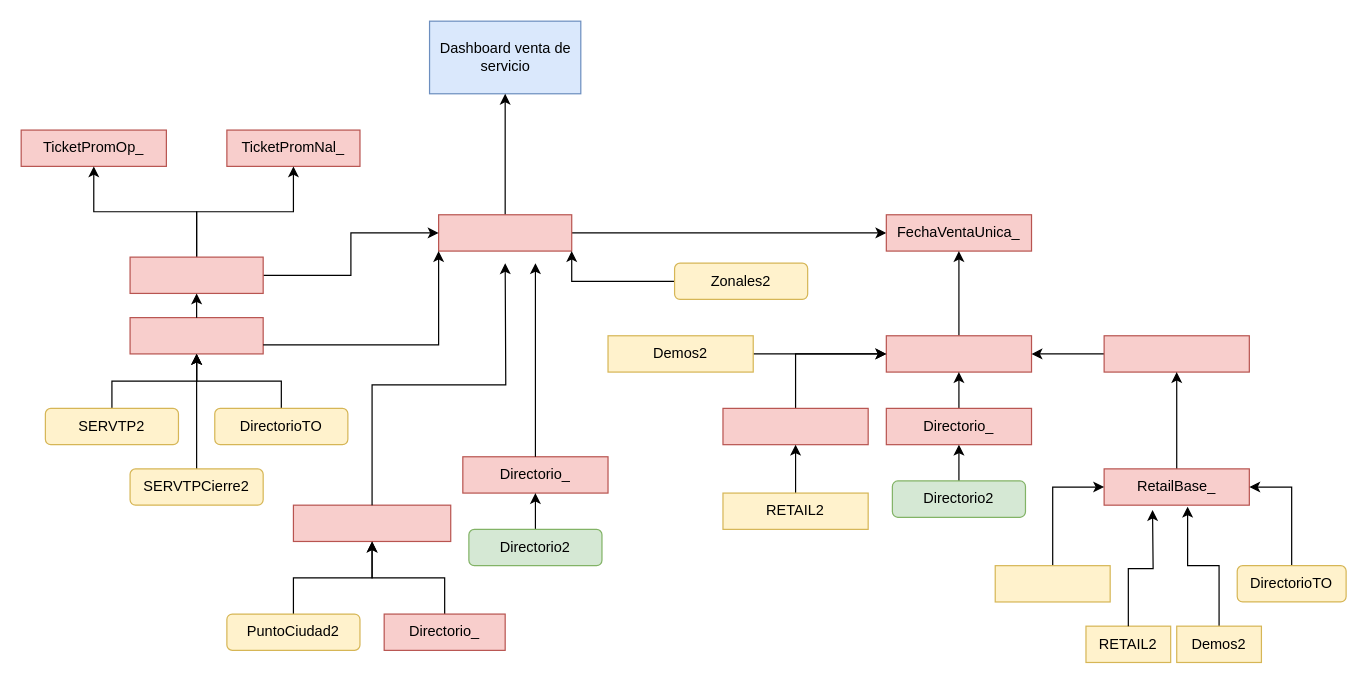
Some shapes in this 1367 by 684 pixel diagram are drawn without their labels. Each missing label, with the centre of its shape:
"Puntociudad2_" belongs at point 371,522.
"RETAIL2_" belongs at point 795,426.
"RETAIL_" belongs at point 958,353.
"RetailManual_" belongs at point 1052,583.
"SERVTP2_" belongs at point 196,335.
"SERVTP_" belongs at point 504,232.
"TicketPromDist_" belongs at point 196,274.
"VTANUECons_" belongs at point 1176,353.
